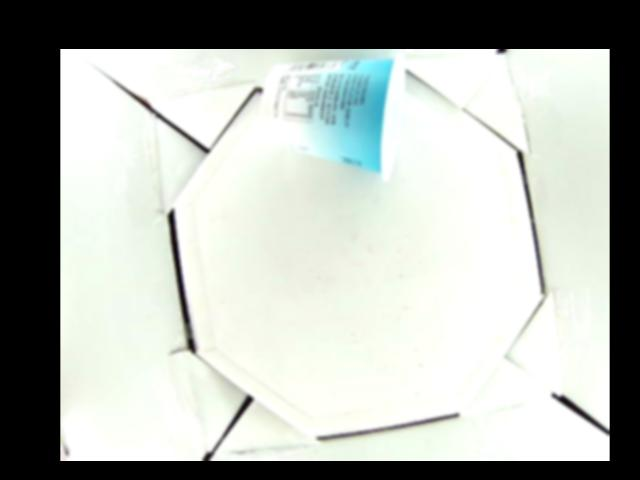Cup: (264, 52, 406, 182)
